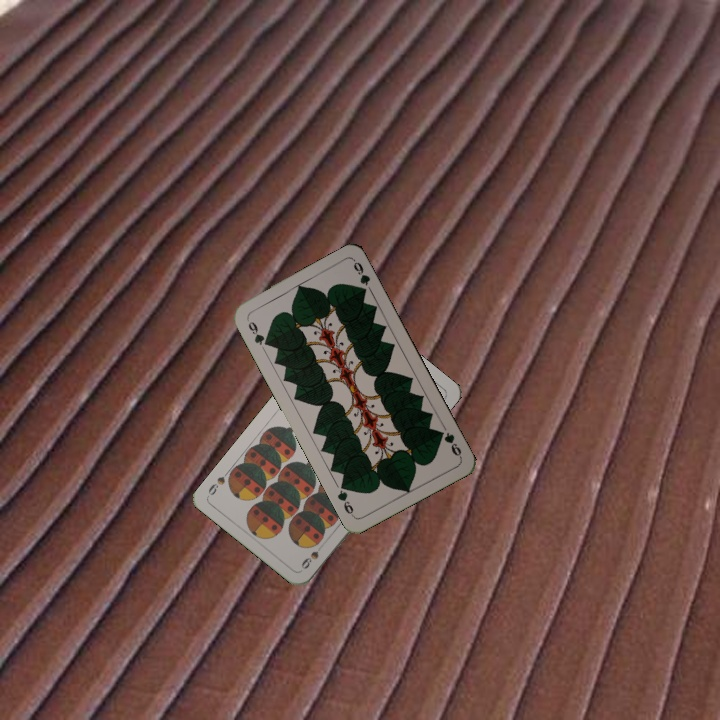G9: (434, 426, 464, 461), (243, 315, 272, 349)
S9: (297, 547, 321, 572)
